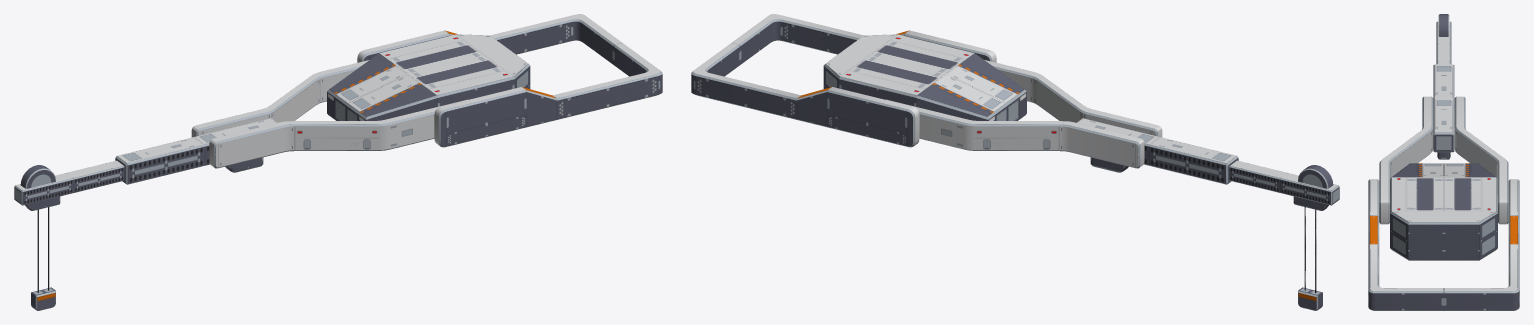
Rendered from Crane_Top_01.FBX.
3 renders of one model, left to right at view 1: azimuth 30°, elevation 25°; view 2: azimuth 150°, elevation 25°; view 3: azimuth 270°, elevation 25°, orthographic. The views are drawn at different scales.
Visible parts, largest first — view 1: Crane_Arm_01, Crane_Arm_02, Crane_Top_01, Crane_Arm_00, Cable_01; view 2: Crane_Arm_01, Crane_Arm_02, Crane_Top_01, Crane_Arm_00, Cable_01; view 3: Crane_Top_01, Crane_Arm_01, Crane_Arm_02, Crane_Arm_00.
Boxes of the visible parts, left/top/right/bottom form: Crane_Arm_01: left=115, top=60, right=467, bottom=184; Crane_Arm_02: left=357, top=14, right=662, bottom=147; Crane_Top_01: left=327, top=34, right=530, bottom=120; Crane_Arm_00: left=14, top=160, right=124, bottom=210; Cable_01: left=31, top=207, right=55, bottom=310; Crane_Arm_01: left=886, top=60, right=1238, bottom=184; Crane_Arm_02: left=691, top=14, right=996, bottom=147; Crane_Top_01: left=823, top=34, right=1026, bottom=120; Crane_Arm_00: left=1229, top=160, right=1339, bottom=210; Cable_01: left=1298, top=207, right=1322, bottom=310; Crane_Top_01: left=1390, top=163, right=1497, bottom=260; Crane_Arm_01: left=1379, top=64, right=1508, bottom=224; Crane_Arm_02: left=1368, top=179, right=1519, bottom=310; Crane_Arm_00: left=1436, top=14, right=1451, bottom=64.
Bounding box in the file's own units: 29.51 × 6.72 × 7.
4 materials, 4 textured.
